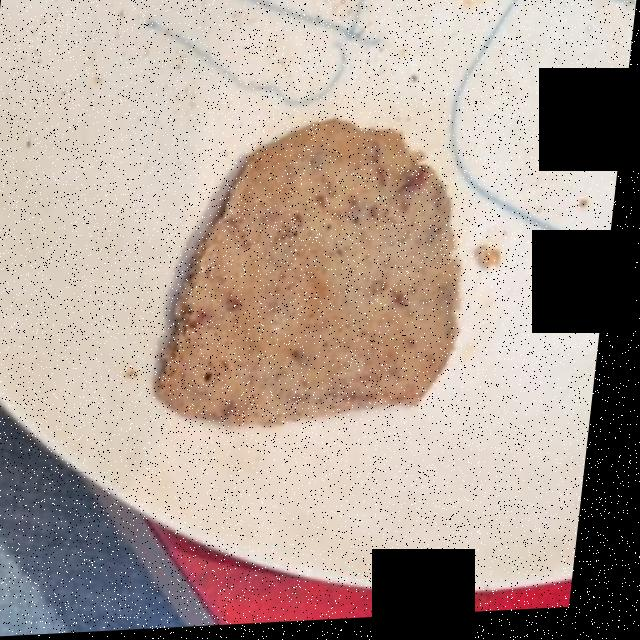cookies: (171, 133, 461, 427)
